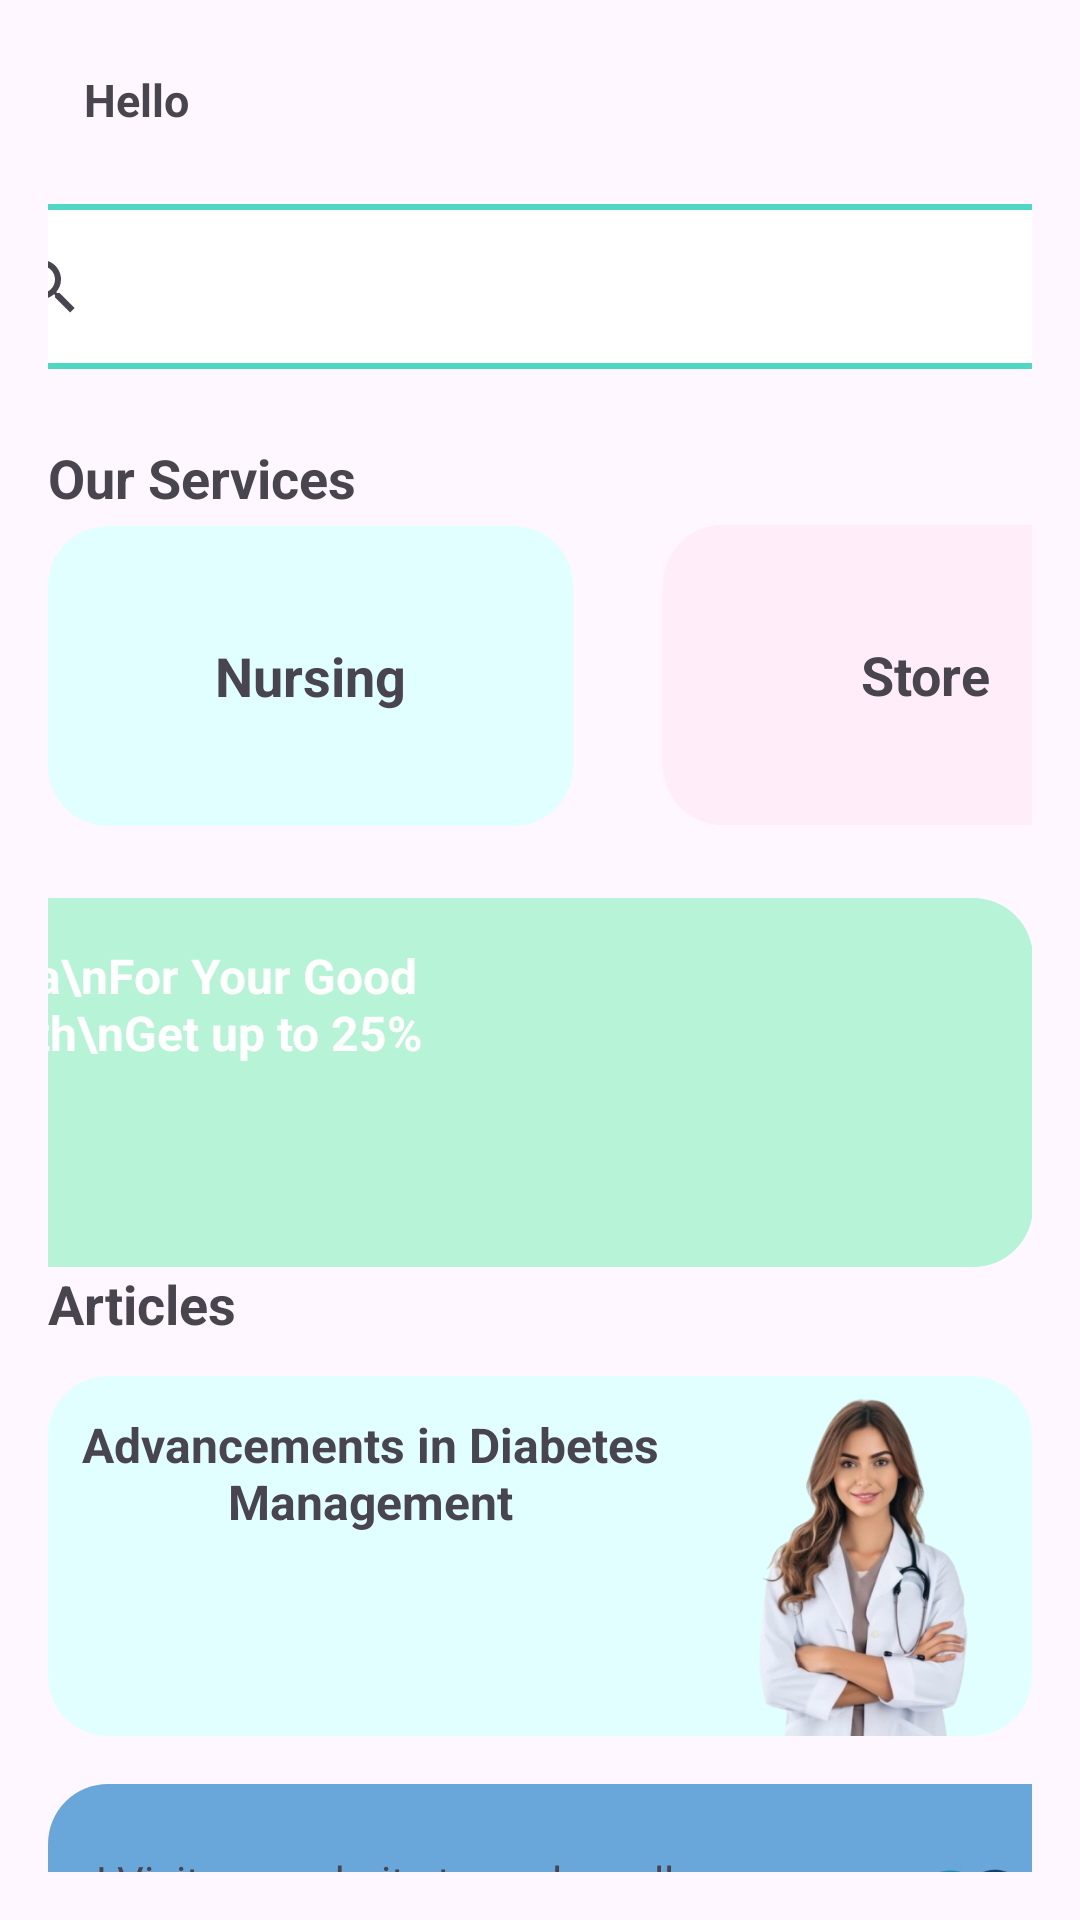

Icon click points for this 1080 x 1920 phone screenshot, format point (x, y):
nurse: point (862, 1557)
